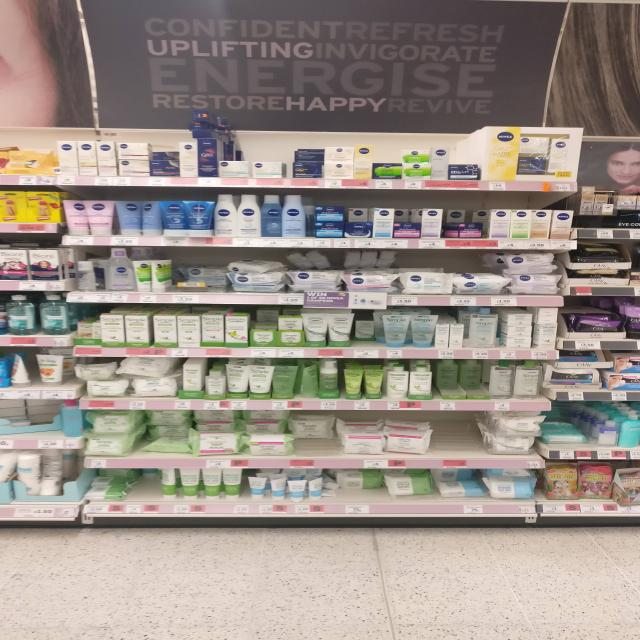empty: (425, 409, 491, 459)
